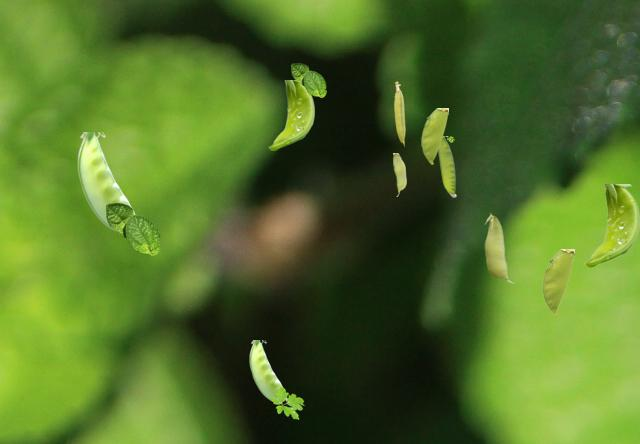pea: (77, 132, 135, 231), (584, 184, 638, 266), (268, 80, 313, 149), (249, 340, 286, 401), (484, 213, 514, 282), (542, 249, 573, 313), (421, 108, 447, 163), (438, 136, 455, 196), (394, 81, 404, 145), (393, 153, 405, 195)
